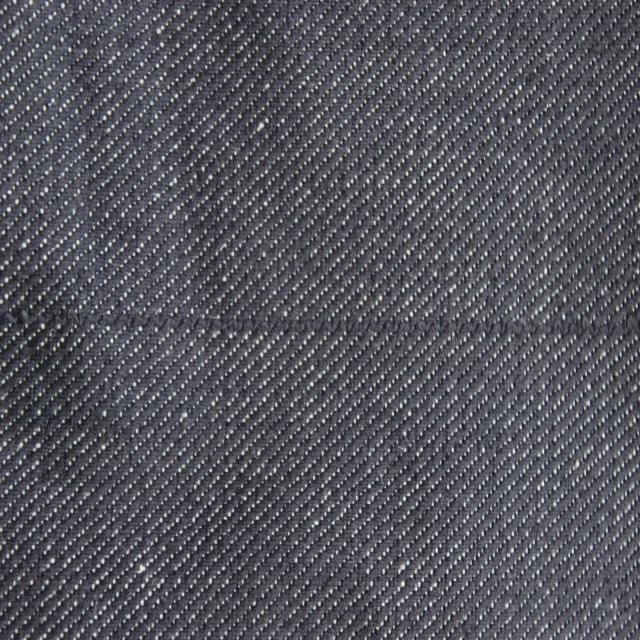defect: (11, 308, 638, 338)
